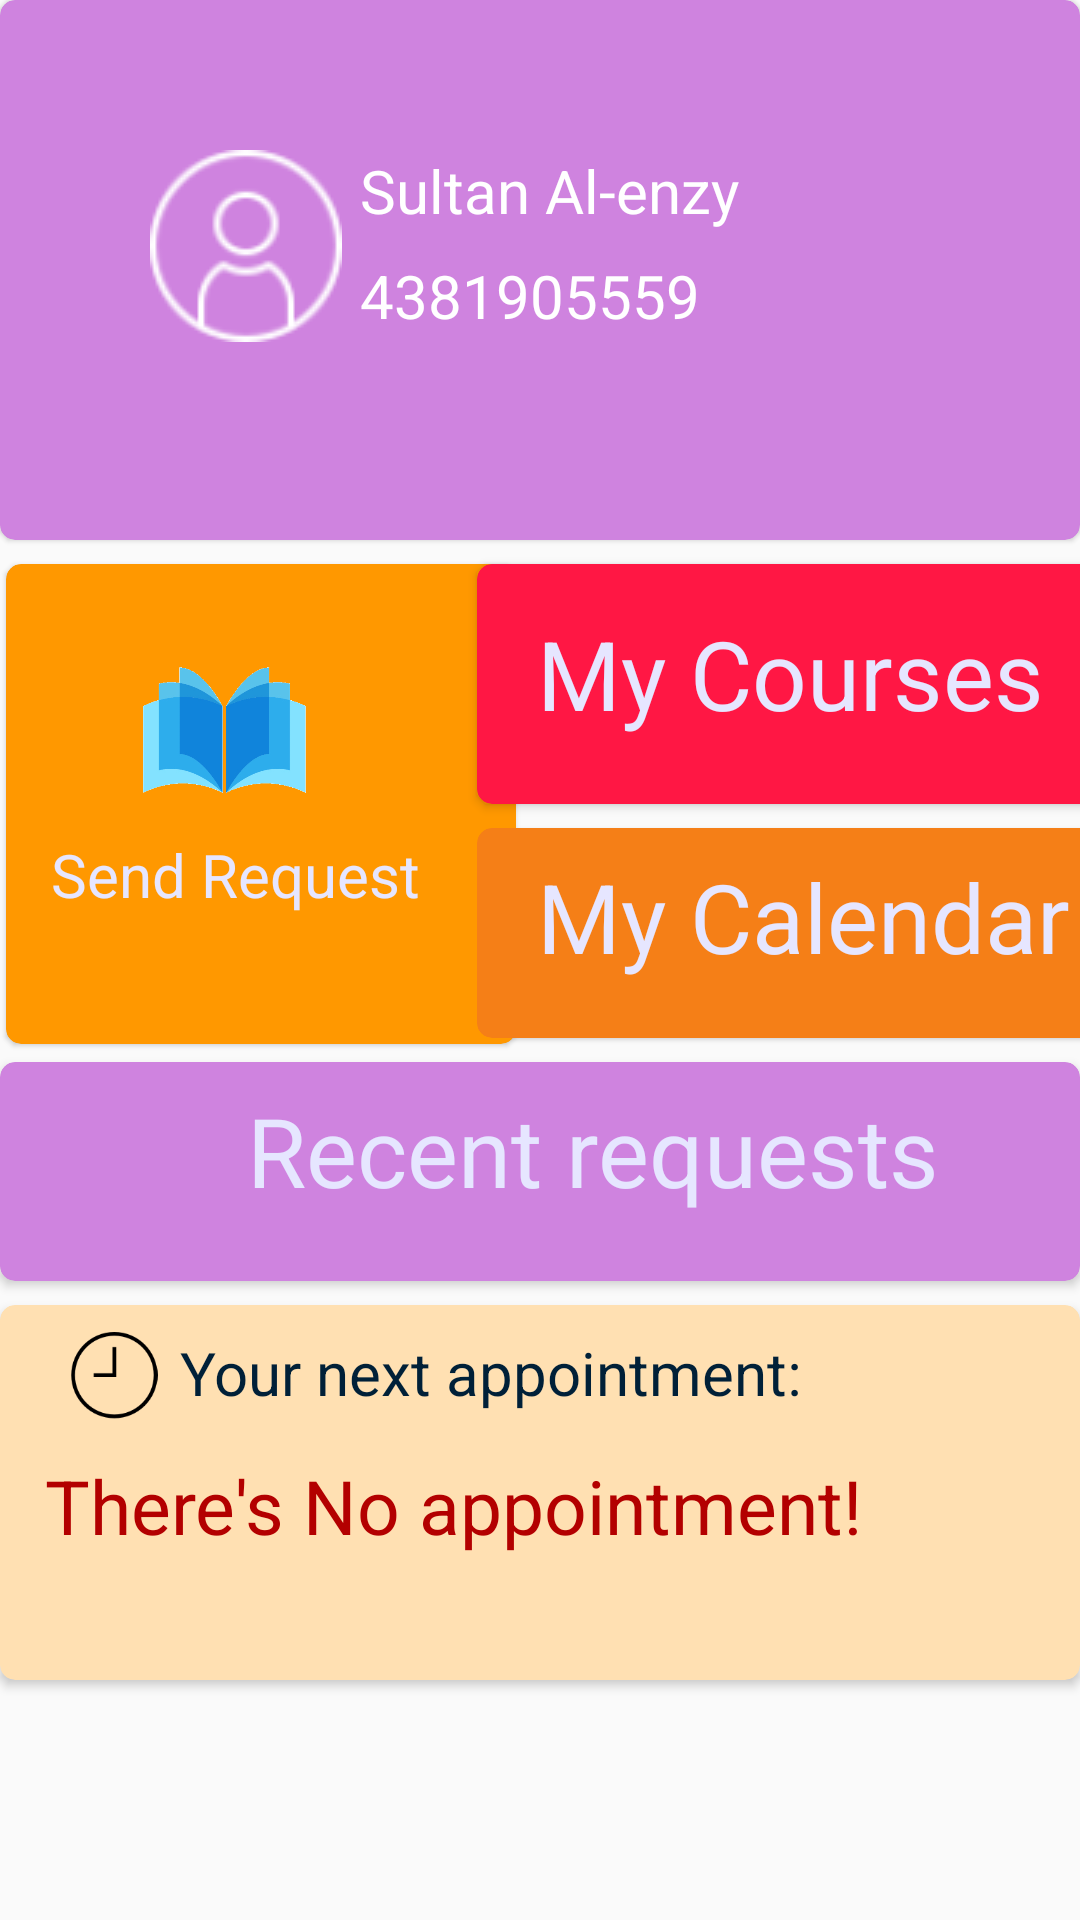

Icons on this 1080×1920 Android screen, each with the point to tap as (x=x, y=y):
book: (x=224, y=730)
user: (x=246, y=246)
